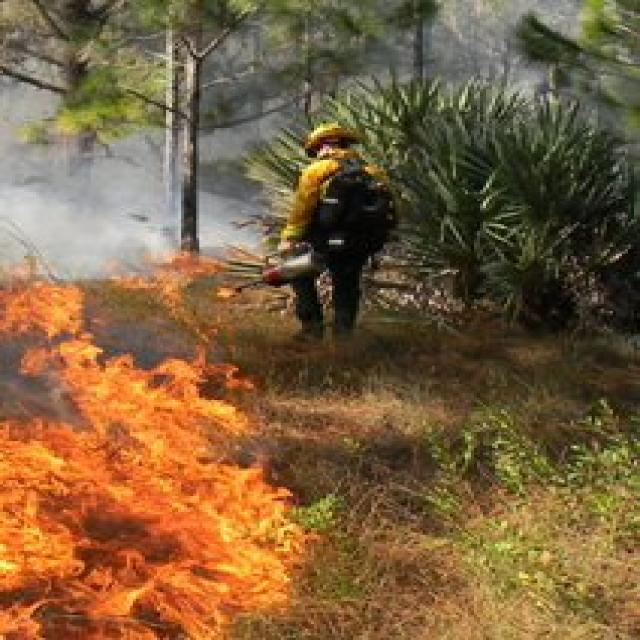fire: (4, 425, 284, 640), (70, 354, 253, 422), (0, 281, 92, 344)
smoke: (8, 155, 146, 260)
